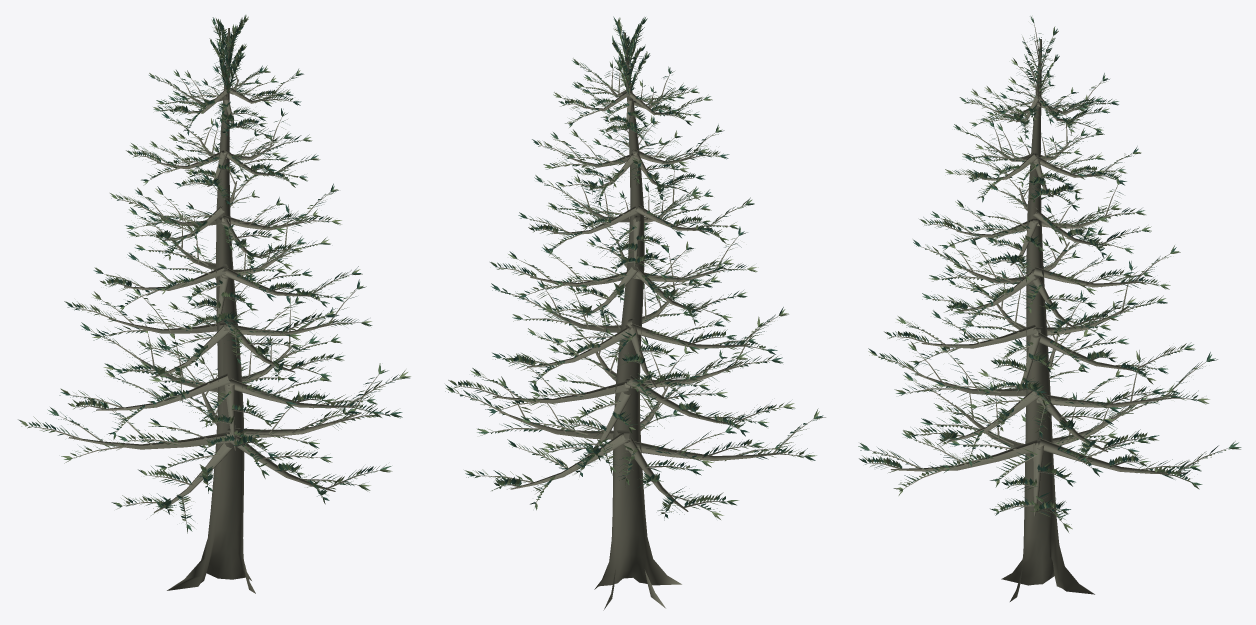
The picture shows the model from 3 angles, left to right: view 1: azimuth 30°, elevation 25°; view 2: azimuth 150°, elevation 25°; view 3: azimuth 270°, elevation 25°; orthographic projection.
Visible parts, largest first — view 1: branches, leaves; view 2: branches, leaves; view 3: branches, leaves.
Part boxes in pixels (x1=…): branches: x1=29, y1=25, x2=398, y2=593; leaves: x1=18, y1=15, x2=410, y2=533; branches: x1=455, y1=32, x2=812, y2=610; leaves: x1=445, y1=16, x2=825, y2=520; branches: x1=867, y1=24, x2=1227, y2=601; leaves: x1=858, y1=16, x2=1241, y2=532.
Bounding box in the file's own units: 6.03 × 9.8 × 5.96.
